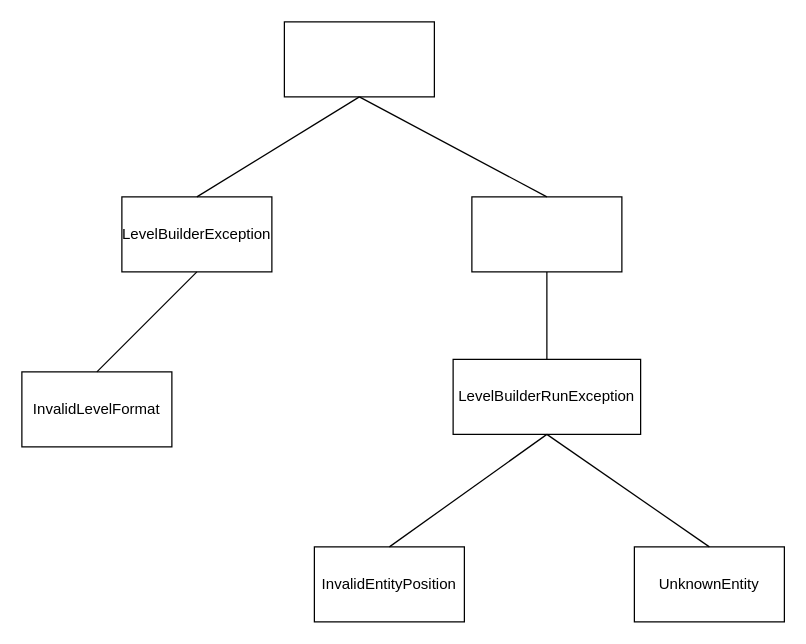
This 806x644 diagram has some shape labels left out. The centre of each missing label's shape, as x and y in pixels:
"Exception" belongs at (358,59).
"RuntimeException" belongs at (546,234).
